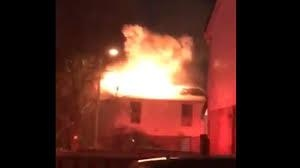fire: (99, 25, 192, 99)
